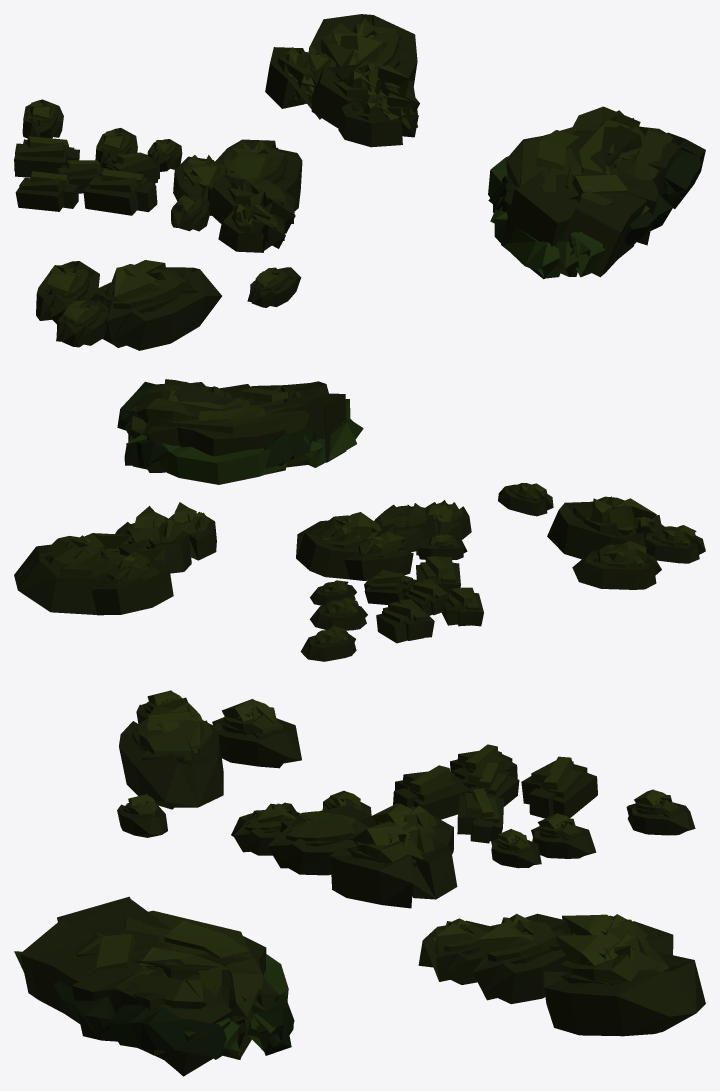
File: SubRocks1.fbx
3 views of the same model, one above another, from view 1: azimuth 30°, elevation 25°; view 2: azimuth 150°, elevation 25°; view 3: azimuth 270°, elevation 25° (orthographic). The views are drawn at different scales.
Visible parts, largest first — view 1: SubRocks1; view 2: SubRocks1; view 3: SubRocks1.
Part boxes in pixels (x1=…): SubRocks1: x1=14, y1=14, x2=705, y2=350; SubRocks1: x1=14, y1=379, x2=705, y2=661; SubRocks1: x1=14, y1=690, x2=705, y2=1076.
Bounding box in the file's own units: 10.64 × 1.42 × 8.74.
